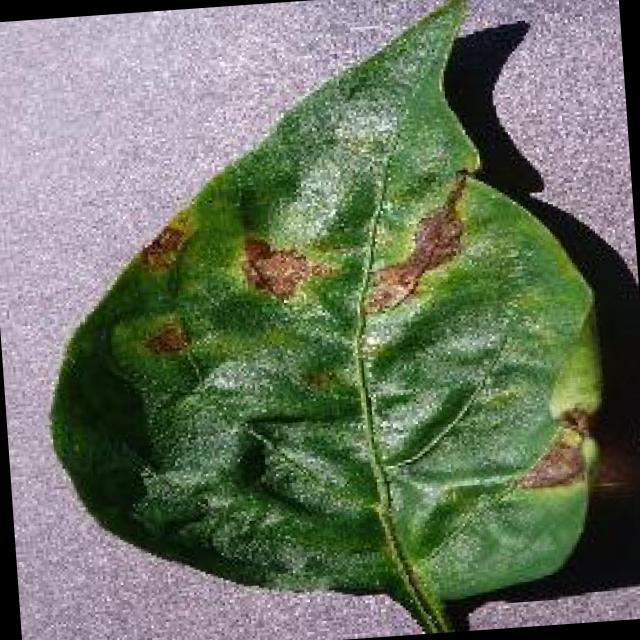Chilli_Bacterial_Spot: (18, 0, 626, 640), (97, 148, 624, 558), (225, 164, 482, 328), (262, 94, 412, 253), (348, 167, 480, 320), (231, 224, 336, 308), (508, 420, 590, 494), (132, 203, 198, 276), (353, 258, 422, 320), (138, 314, 192, 360), (295, 358, 343, 399)
